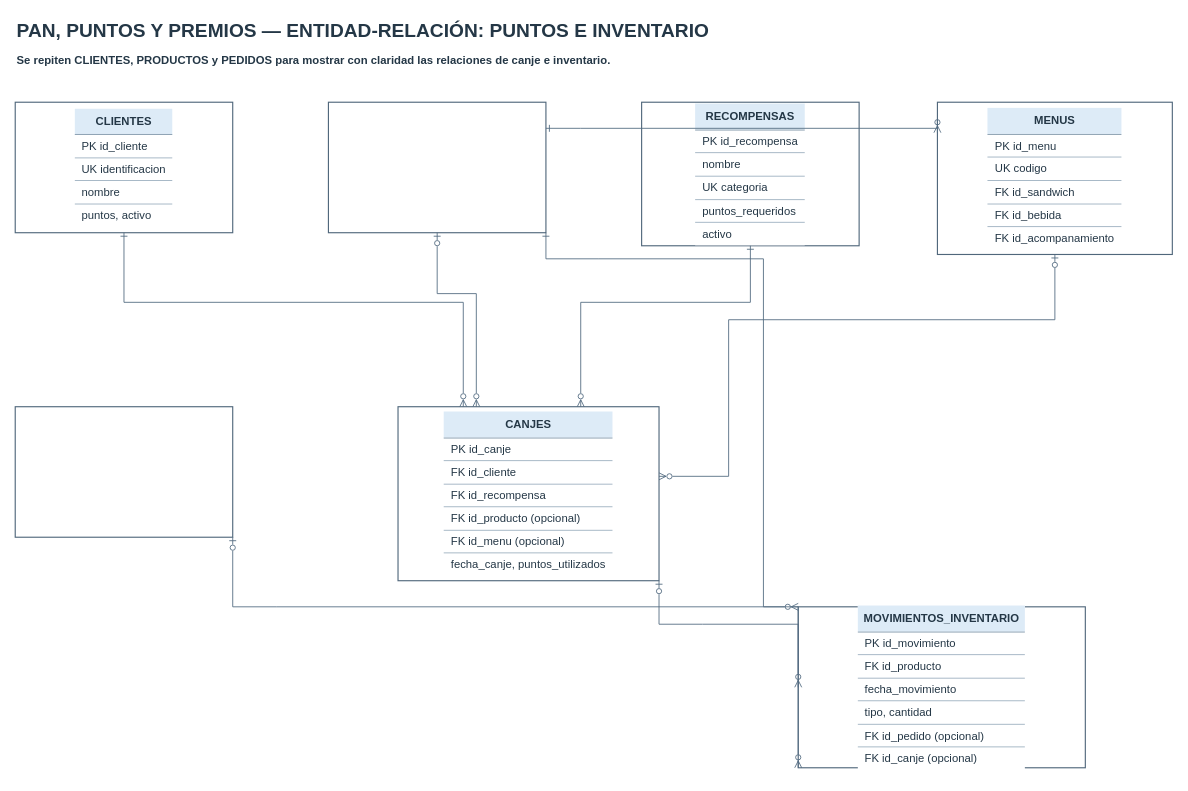
The diagram is 1188 pixels wide and 791 high, and some of its shapes have lost their labels. The shapes that lost their labels are listed below. From the top down, each one's box as (x1, y1, x2, y2) in pixels, then its label:
(327, 101, 546, 233): PRODUCTOS PK id_producto UK codigo categoria, nombre precio, stock
(14, 406, 233, 537): PEDIDOS PK id_pedido FK id_cliente fecha_creacion estado, total
